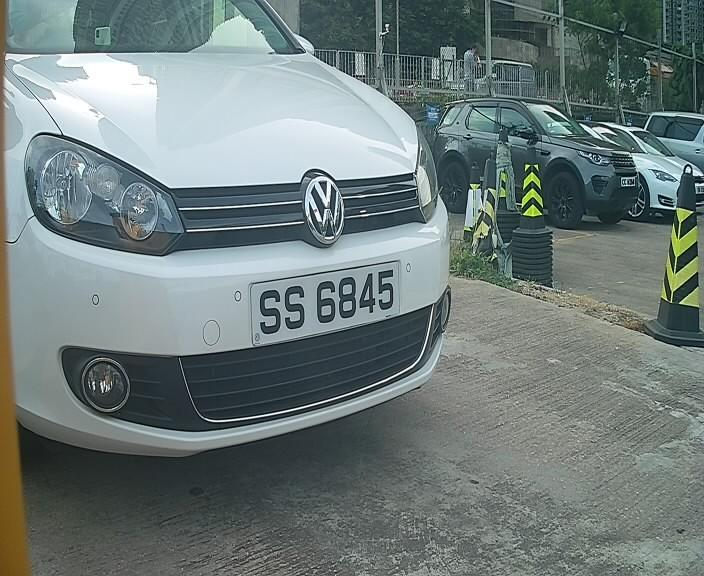privatecar: (4, 13, 481, 461)
